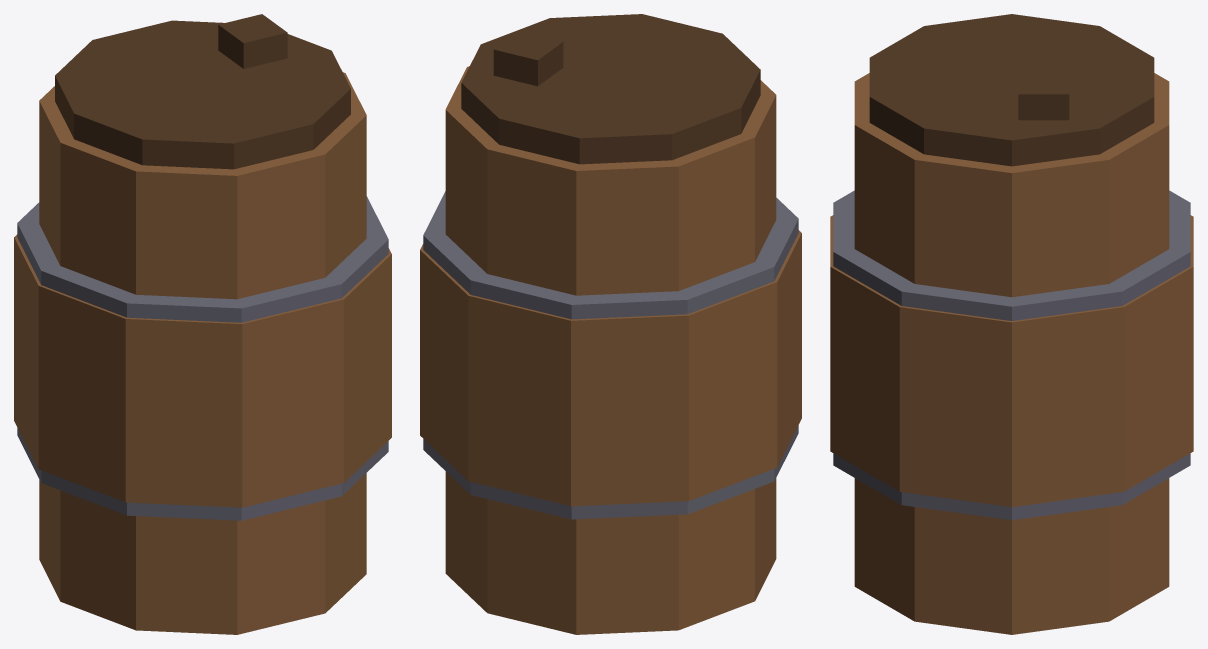
The model's file is shipwreck_barrel.glb.
The picture shows the model from 3 angles, left to right: view 1: azimuth 30°, elevation 25°; view 2: azimuth 150°, elevation 25°; view 3: azimuth 270°, elevation 25°; orthographic projection.
Visible parts, largest first — view 1: barrel_body_1, barrel_body_2, barrel_body_0, lid, iron_hoop_1, iron_hoop_0, bung; view 2: barrel_body_1, barrel_body_2, barrel_body_0, lid, iron_hoop_1, iron_hoop_0, bung; view 3: barrel_body_1, barrel_body_2, barrel_body_0, lid, iron_hoop_1, iron_hoop_0, bung.
Boxes of the visible parts, left/top/right/bottom form: barrel_body_1: left=14, top=234, right=391, bottom=507; barrel_body_2: left=39, top=72, right=366, bottom=299; barrel_body_0: left=39, top=473, right=366, bottom=634; lid: left=55, top=20, right=350, bottom=169; iron_hoop_1: left=17, top=196, right=388, bottom=322; iron_hoop_0: left=17, top=428, right=388, bottom=520; bung: left=218, top=14, right=287, bottom=68; barrel_body_1: left=420, top=230, right=801, bottom=506; barrel_body_2: left=445, top=66, right=776, bottom=295; barrel_body_0: left=445, top=471, right=776, bottom=634; lid: left=461, top=14, right=760, bottom=164; iron_hoop_1: left=423, top=191, right=798, bottom=319; iron_hoop_0: left=423, top=425, right=798, bottom=519; bung: left=493, top=31, right=563, bottom=86; barrel_body_1: left=830, top=215, right=1193, bottom=506; barrel_body_2: left=854, top=73, right=1169, bottom=297; barrel_body_0: left=854, top=478, right=1169, bottom=634; lid: left=869, top=14, right=1154, bottom=166; iron_hoop_1: left=833, top=190, right=1190, bottom=320; iron_hoop_0: left=833, top=453, right=1190, bottom=520; bung: left=1018, top=72, right=1069, bottom=120.
Size of what is drawn, in the model's own units: 0.6 by 0.89 by 0.5706.
